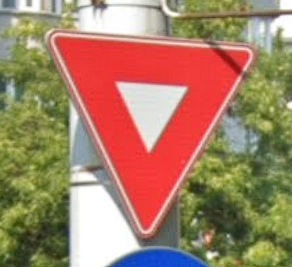cedeaza: (42, 23, 264, 253)
